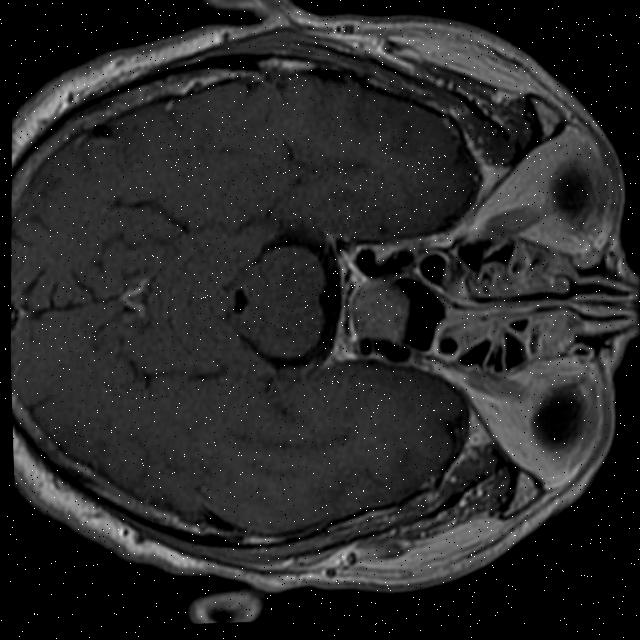Pituitary: (348, 275, 412, 347)
